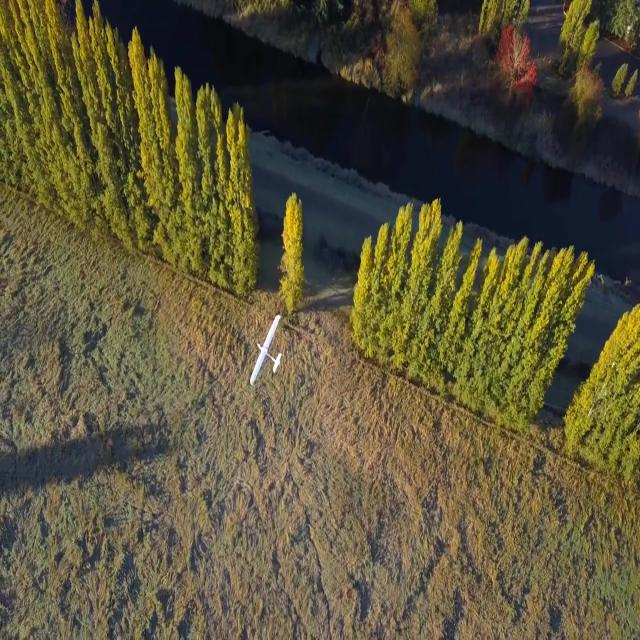iha: (243, 349, 276, 352)
